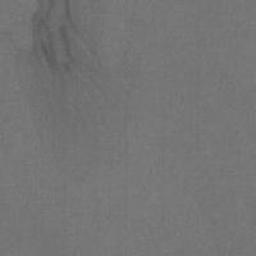Water spot: (0, 0, 147, 179)
